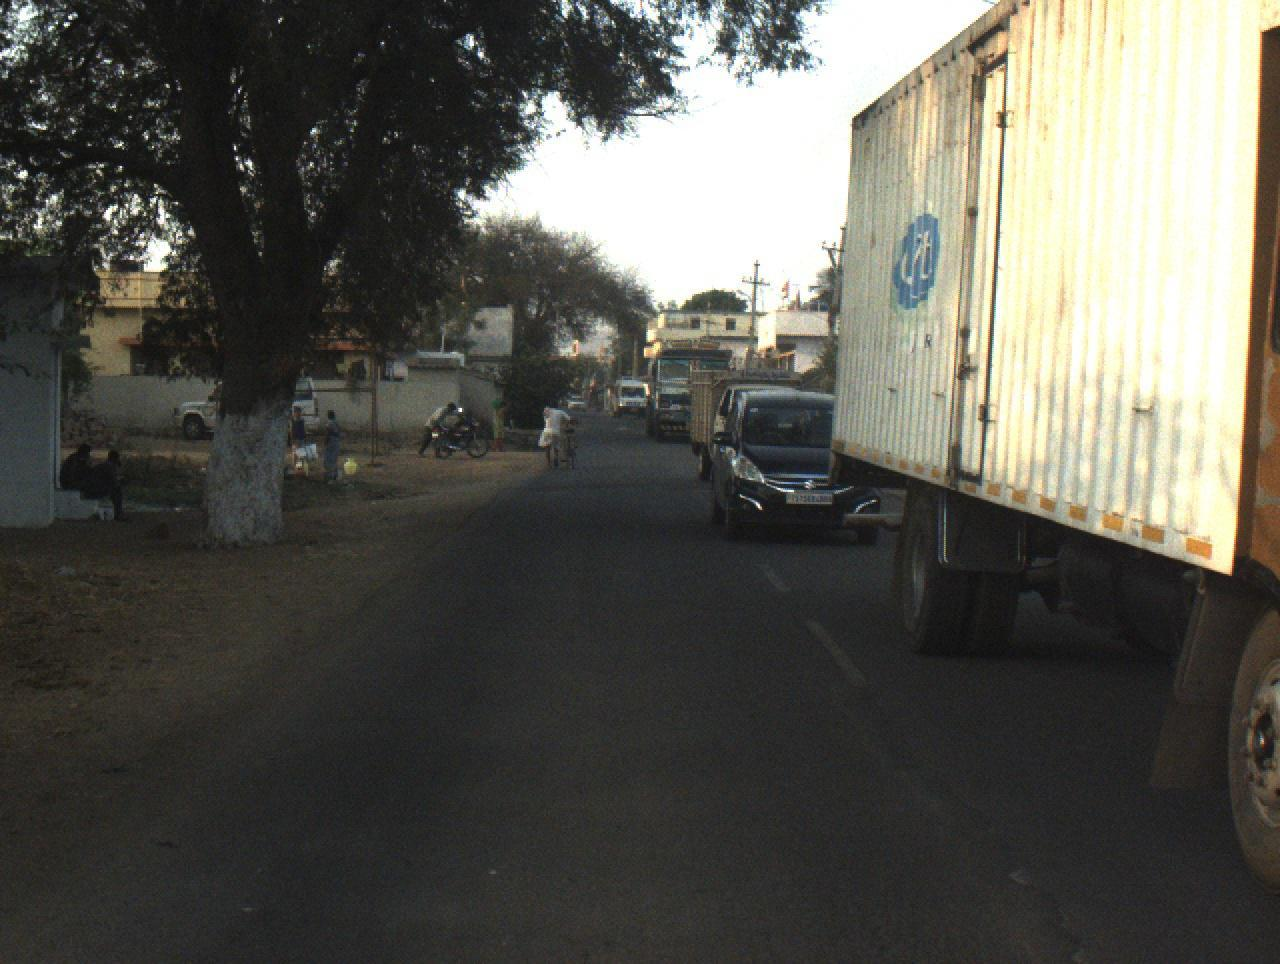off: (0, 0, 1263, 964)
